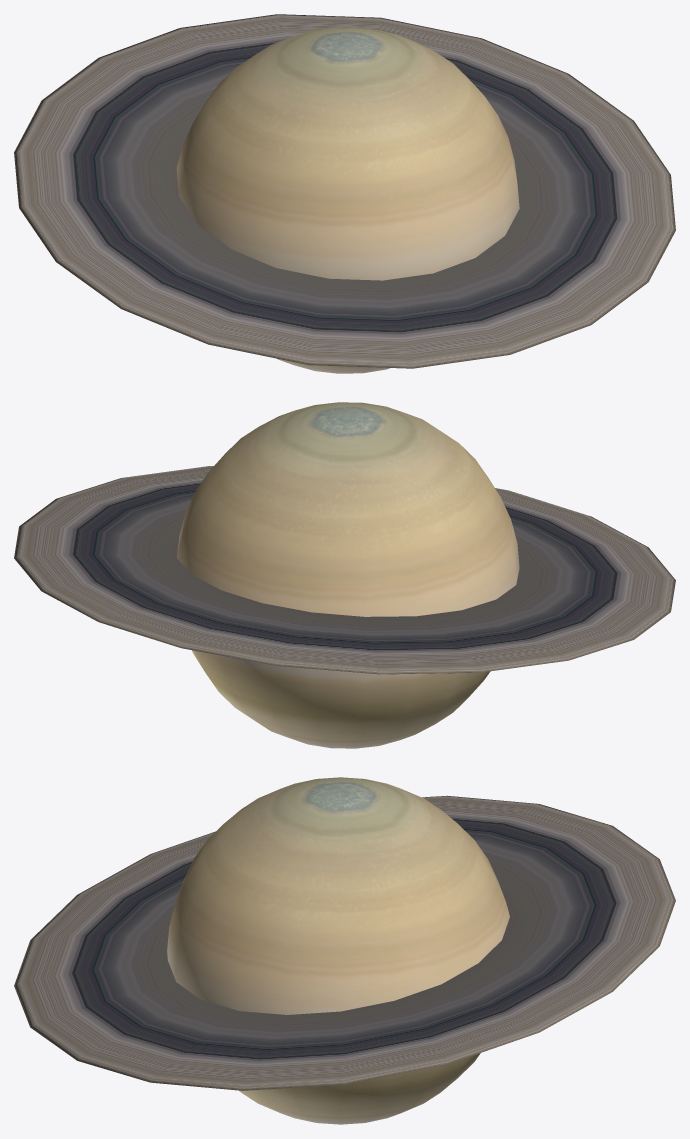
Rendered from saturn.fbx.
The picture shows the model from 3 angles, top to bottom: view 1: azimuth 30°, elevation 25°; view 2: azimuth 150°, elevation 25°; view 3: azimuth 270°, elevation 25°; orthographic projection.
Visible parts, largest first — view 1: pTorus1, pSphere1; view 2: pSphere1, pTorus1; view 3: pTorus1, pSphere1.
Part boxes in pixels (box(x1,y1,x2,y2)): pTorus1: box(14, 14, 675, 368); pSphere1: box(177, 27, 519, 373); pSphere1: box(177, 402, 519, 748); pTorus1: box(14, 466, 675, 674); pTorus1: box(14, 795, 675, 1090); pSphere1: box(167, 777, 509, 1124).
Size of the model in its own units: 269 by 140 by 266.
Materials: 2 (2 with a texture image).
